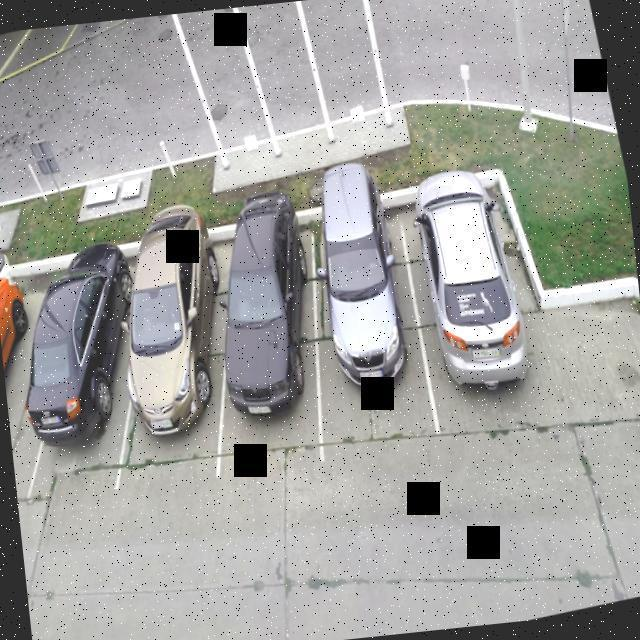car: (175, 206, 358, 481), (94, 218, 276, 482), (279, 200, 449, 454), (394, 176, 556, 432), (5, 250, 172, 488), (0, 246, 80, 491)
